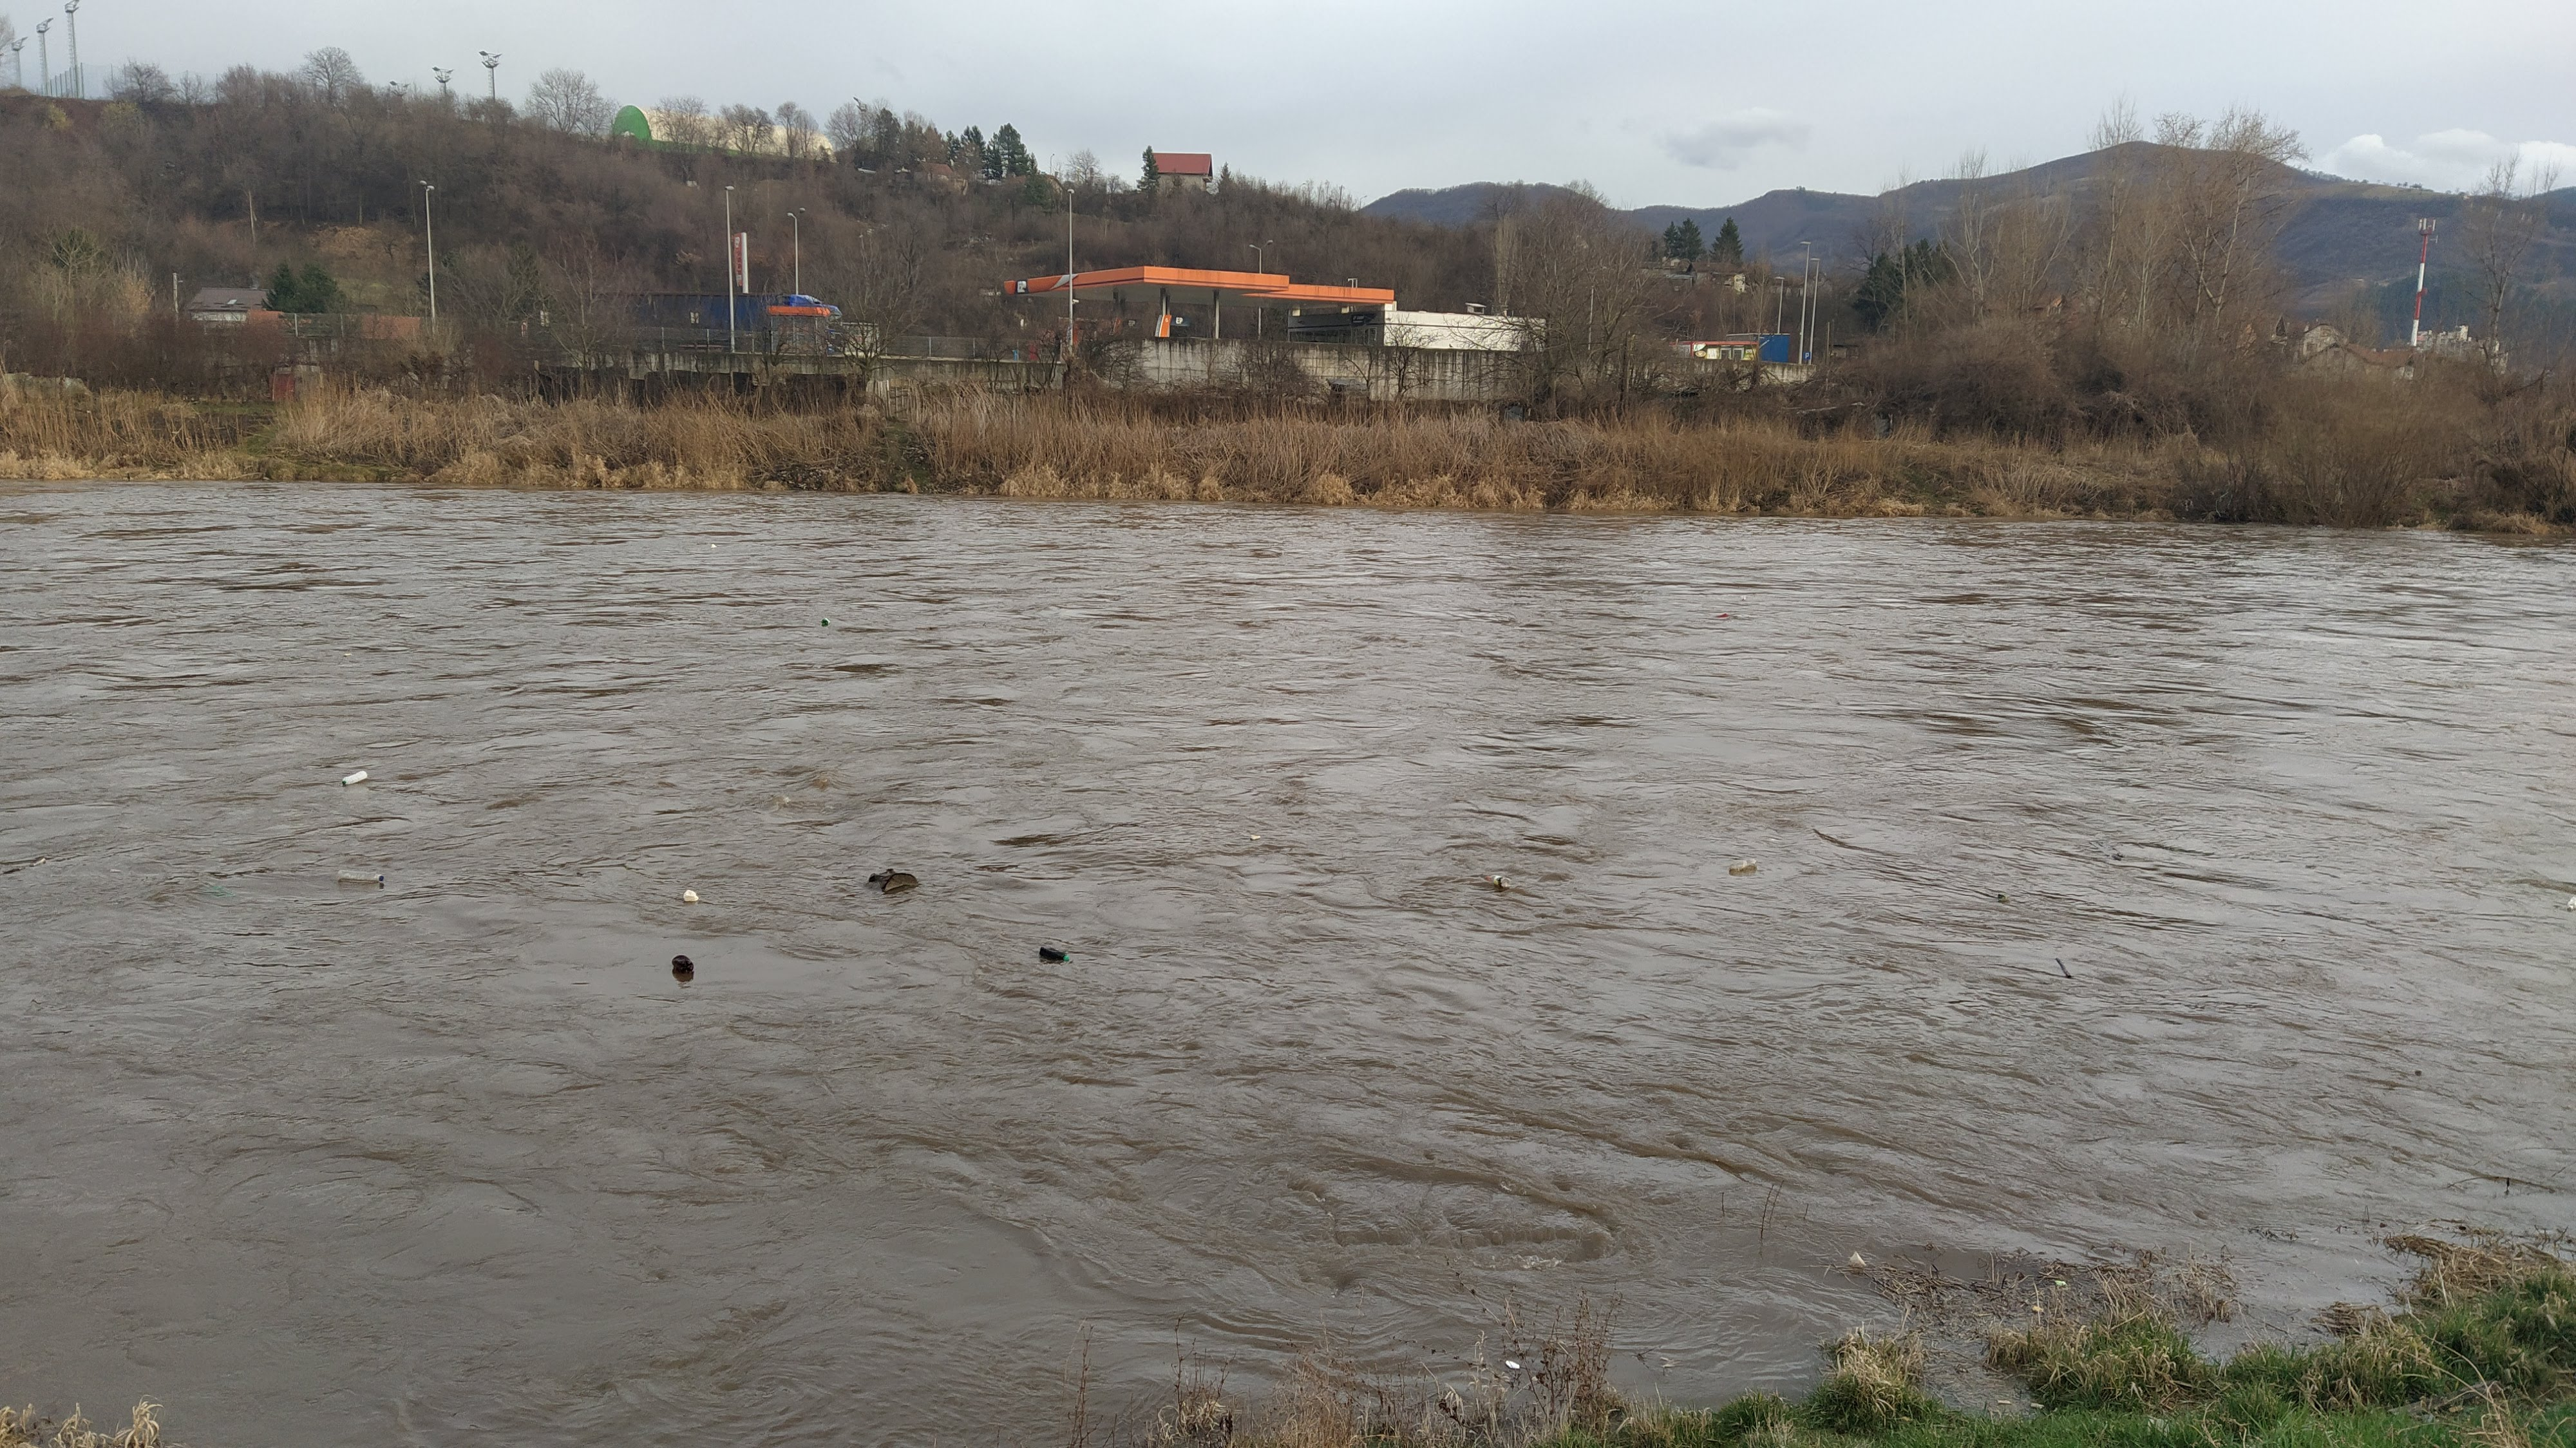Plastic Bottle: (338, 871, 384, 883), (1039, 947, 1069, 961), (672, 954, 694, 974), (341, 770, 366, 784), (1729, 859, 1757, 871), (1484, 874, 1511, 887), (1847, 1252, 1865, 1266), (2567, 892, 2576, 912), (30, 857, 44, 867), (683, 890, 697, 901), (821, 618, 828, 625), (1249, 836, 1260, 839)
